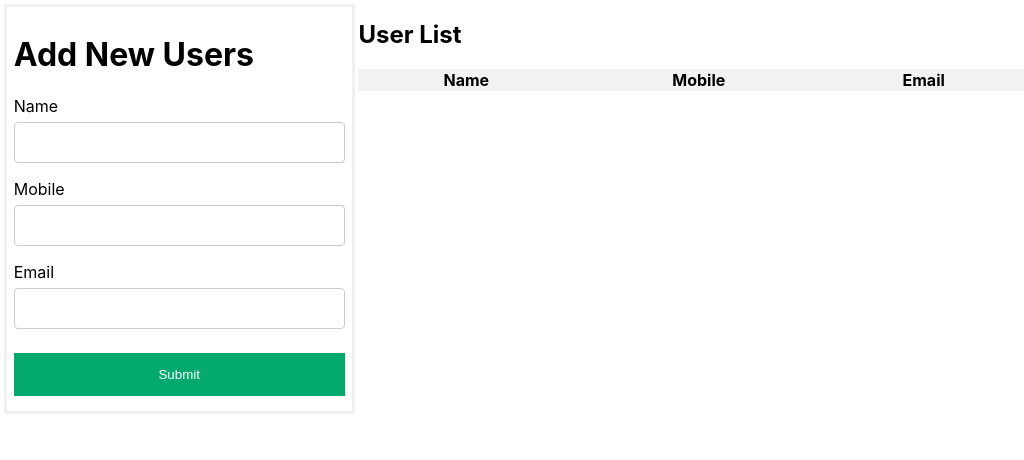
Test case: Test User Component › both UserForm and UserList visible on screen
In the field labelled "Name": (179, 142) [14,122,345,163], type "Jay"
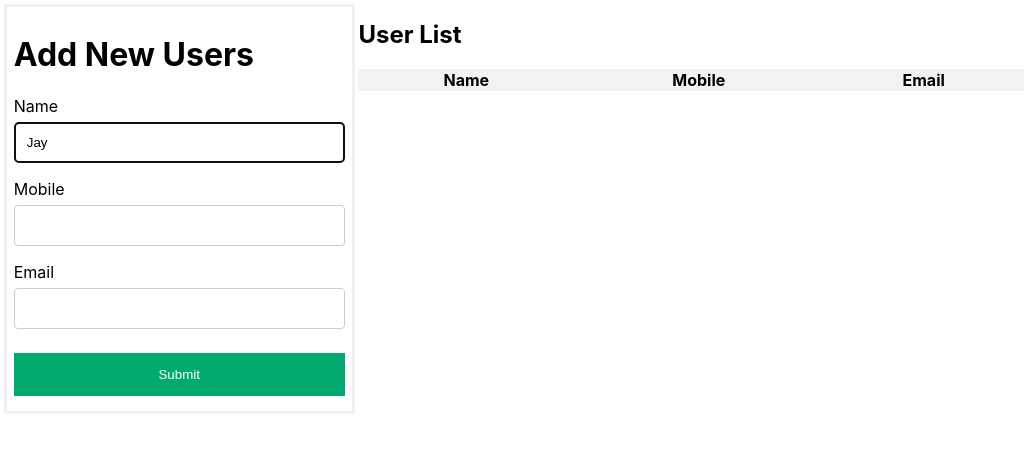
In the field labelled "Mobile": (179, 225) [14,205,345,246], type "9582947883"
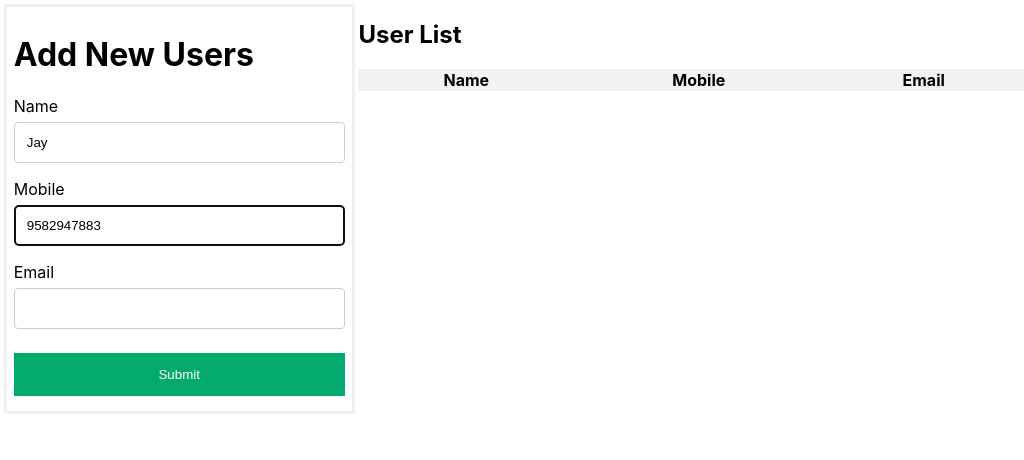
In the field labelled "Email": (179, 308) [14,288,345,329], type "jay@gmail.com"
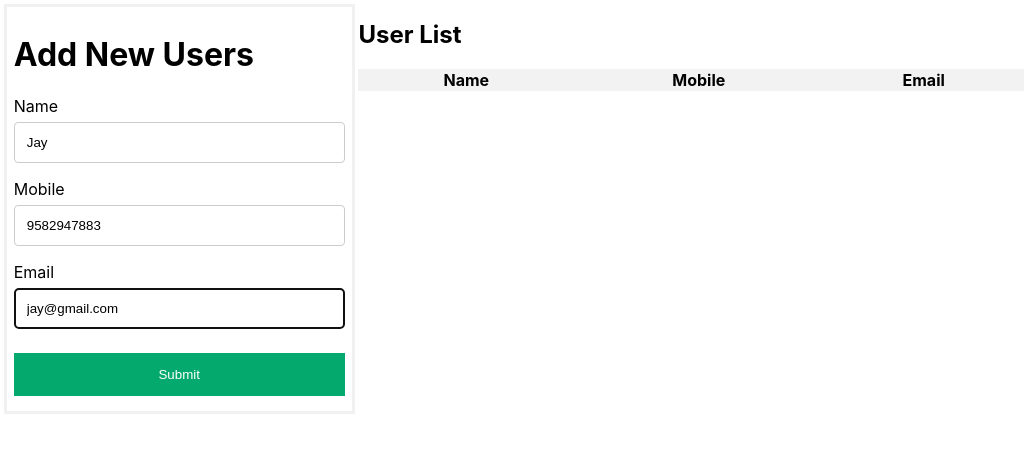
// Click the submit button
Click the button "Submit": (179, 374) [14,353,345,396]
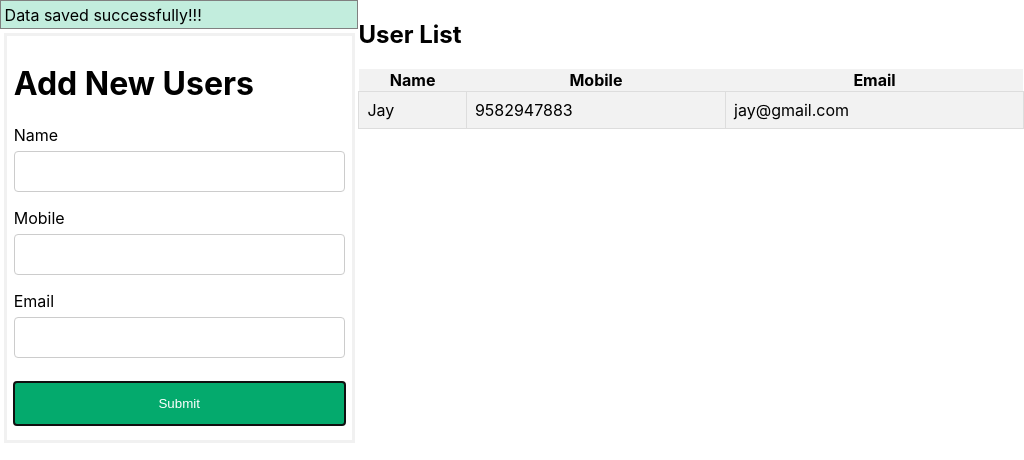
expect the text "Data saved successfully!!!" is shown: met, box [0,0,358,29]
